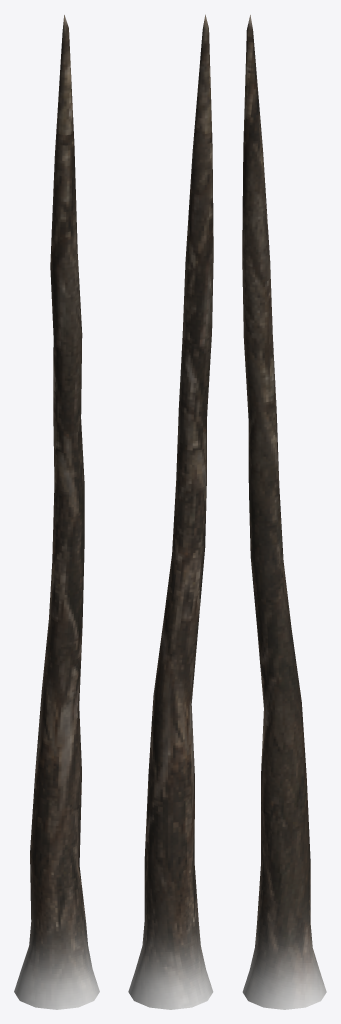
The model's file is big_tree_3.fbx.
3 views of the same model, side by side, from view 1: azimuth 90°, elevation 25°; view 2: azimuth 150°, elevation 25°; view 3: azimuth 330°, elevation 25° (orthographic). The views are drawn at different scales.
Visible parts, largest first — view 1: big_tree_3; view 2: big_tree_3; view 3: big_tree_3.
Boxes of the visible parts, left/top/right/bottom form: big_tree_3: left=14, top=15, right=99, bottom=1009; big_tree_3: left=128, top=14, right=213, bottom=1009; big_tree_3: left=242, top=15, right=326, bottom=1009.
Size of the model in its own units: 187 by 185 by 2364.
